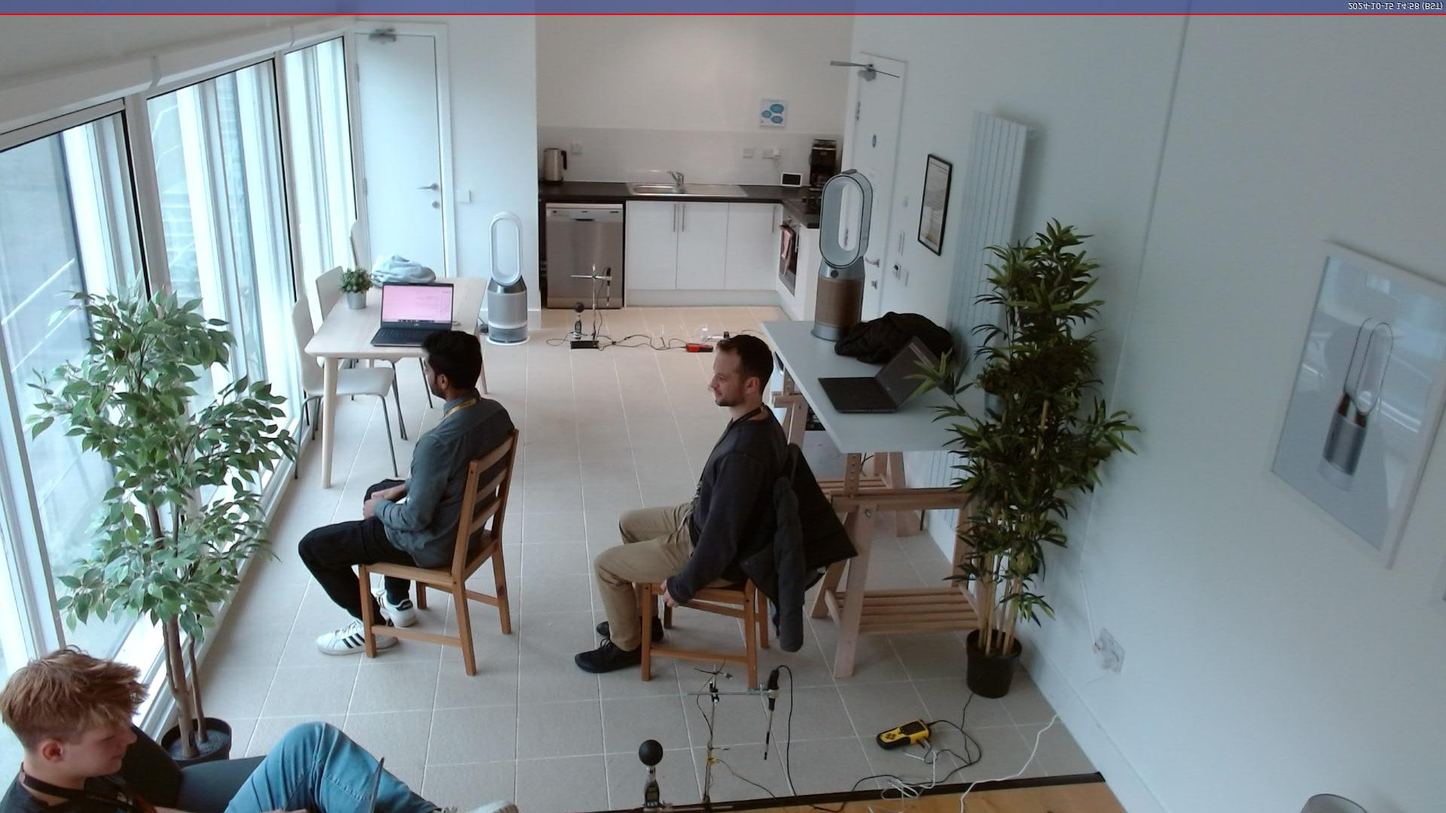long sleeve shirt: (375, 388, 519, 573)
short sleeve shirt: (0, 772, 150, 813)
sweater: (664, 402, 792, 605)
trousers: (219, 713, 443, 813), (593, 492, 702, 657), (297, 476, 416, 626)
